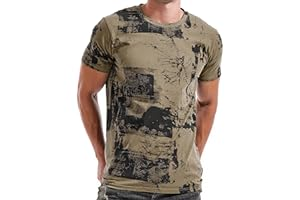design: (106, 27, 197, 184)
